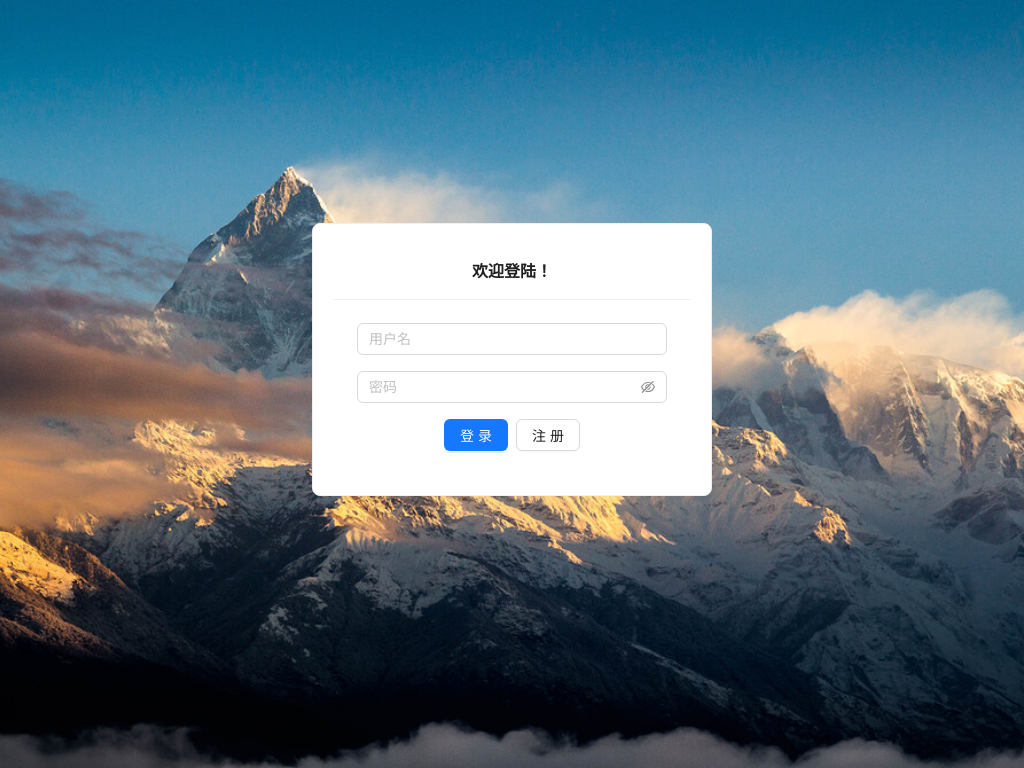
Test case: 注册测试 › 测试在输入为空时注册失败
Click the button with test id "register-show-button": (548, 435) [516,419,580,451]
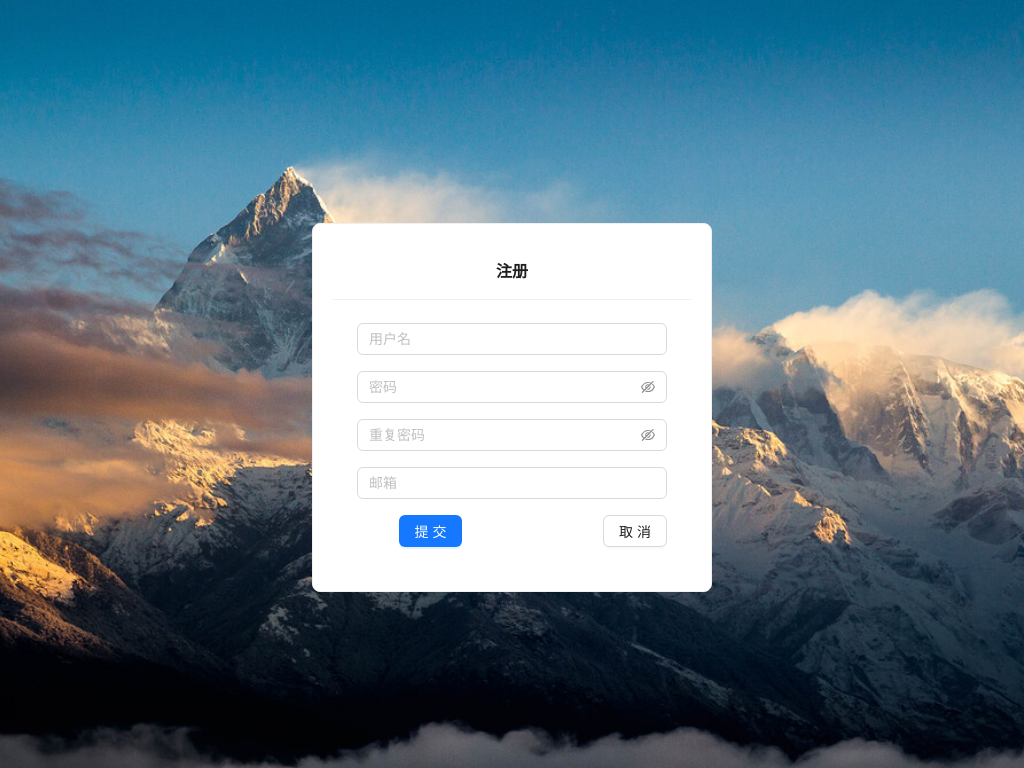
Click the button with test id "register-submit-button": (431, 531) [399,515,463,547]
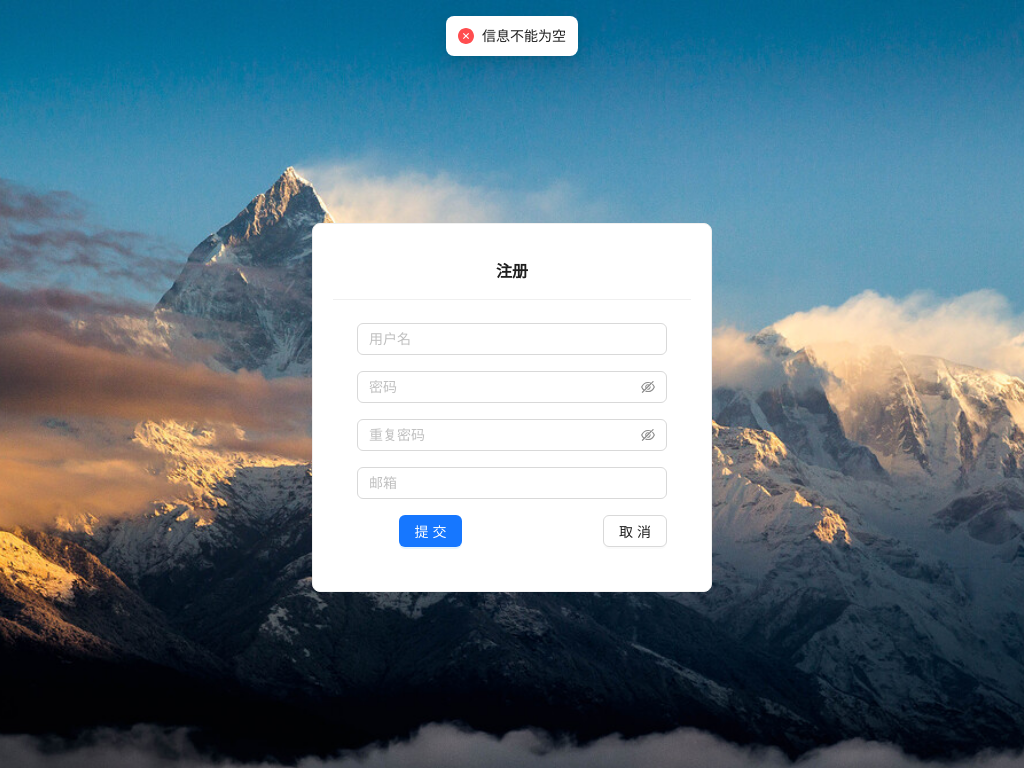
Result: the text "信息不能为空" is shown at [482,25,566,47]
